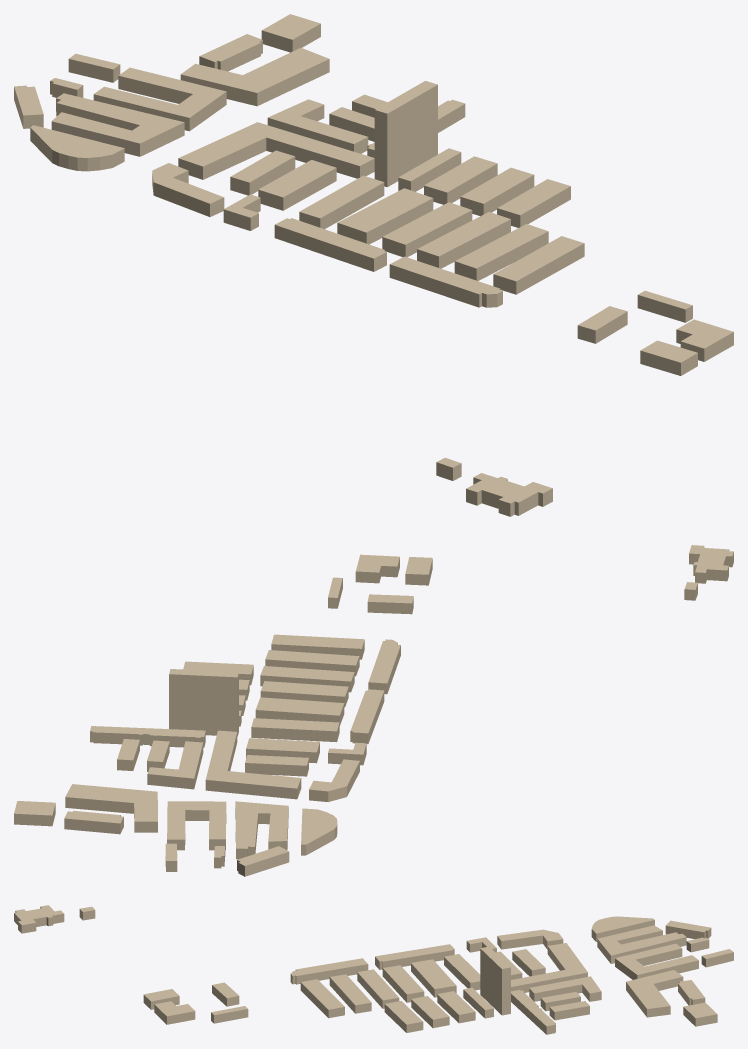
File: -21_7-estimated-coarse.glb
3 views of the same model, one above another, from view 1: azimuth 30°, elevation 25°; view 2: azimuth 150°, elevation 25°; view 3: azimuth 270°, elevation 25° (orthographic). The views are drawn at different scales.
Size of the model in its own units: 370 by 66 by 928.
